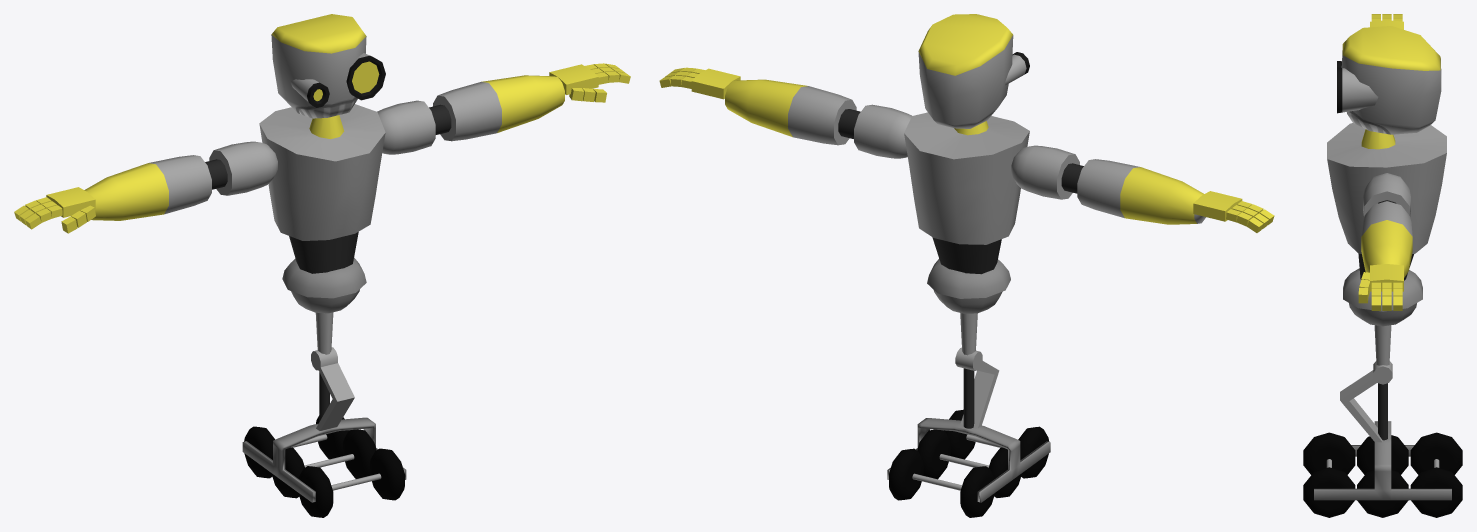
The model's file is Yellow_Robot.fbx.
The picture shows the model from 3 angles, left to right: view 1: azimuth 30°, elevation 25°; view 2: azimuth 150°, elevation 25°; view 3: azimuth 270°, elevation 25°; orthographic projection.
Parts seen in each view (by area): view 1: Robot; view 2: Robot; view 3: Robot.
Boxes of the visible parts, x1,y1,x2,y2 form: Robot: (14,14,630,517); Robot: (659,14,1274,517); Robot: (1303,14,1462,517).
Bounding box in the file's own units: 215 × 158 × 49.59.
